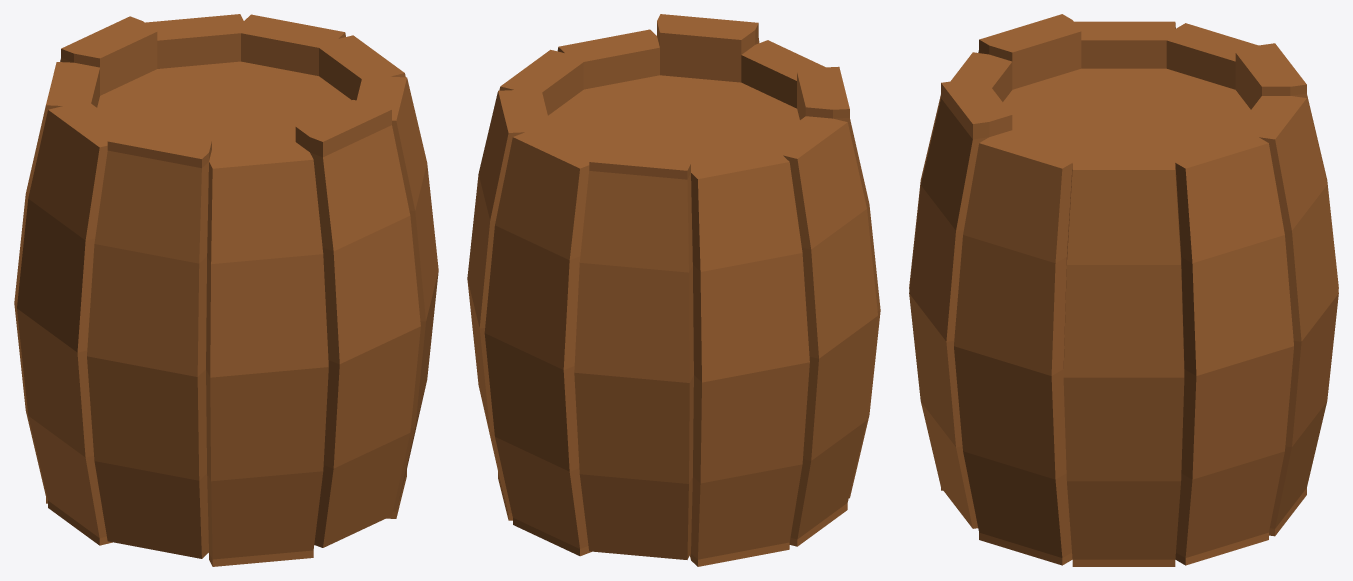
File: n2_barrel_light_brown_0_lev2.006.glb
3 views of the same model, side by side, from view 1: azimuth 30°, elevation 25°; view 2: azimuth 150°, elevation 25°; view 3: azimuth 270°, elevation 25° (orthographic). The views are drawn at different scales.
Parts seen in each view (by area): view 1: n2_barrel_light_brown_0_lev2.006; view 2: n2_barrel_light_brown_0_lev2.006; view 3: n2_barrel_light_brown_0_lev2.006.
Boxes of the visible parts, x1,y1,x2,y2 form: n2_barrel_light_brown_0_lev2.006: [14, 14, 438, 566]; n2_barrel_light_brown_0_lev2.006: [467, 14, 880, 566]; n2_barrel_light_brown_0_lev2.006: [909, 14, 1338, 566].
Bounding box in the file's own units: 1.37 × 1.51 × 1.42.
